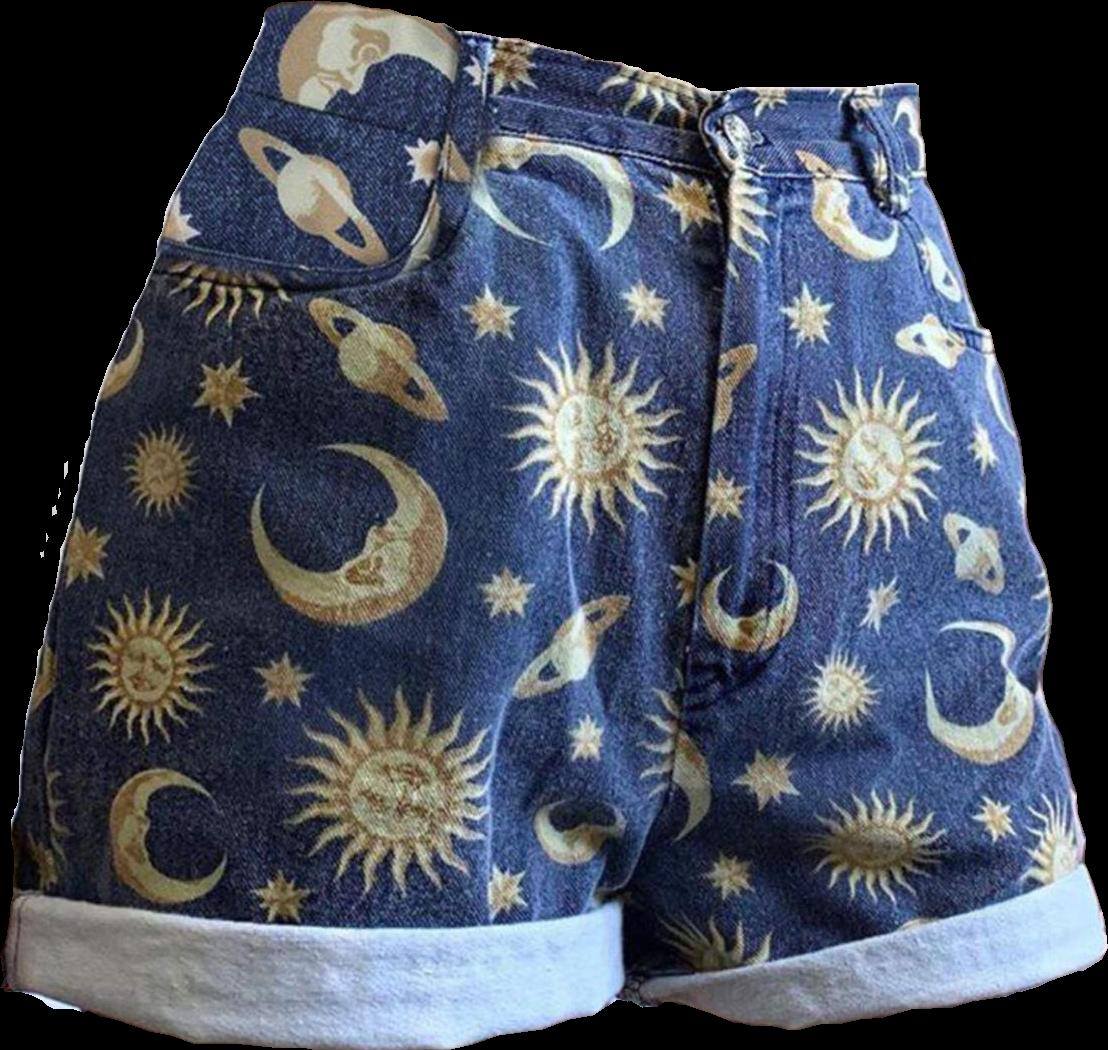Hemline: (3, 978, 633, 1049), (625, 950, 1107, 1033)
Pantleg: (3, 3, 738, 1046), (625, 82, 1107, 1029)
Waistline: (232, 84, 930, 190), (260, 2, 927, 103)
